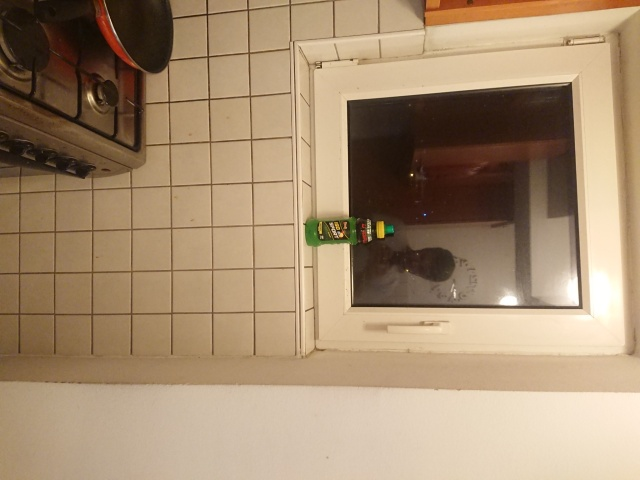Vindi Iso Sport Lemon-Grapefruit 500mL: (302, 214, 396, 249)
